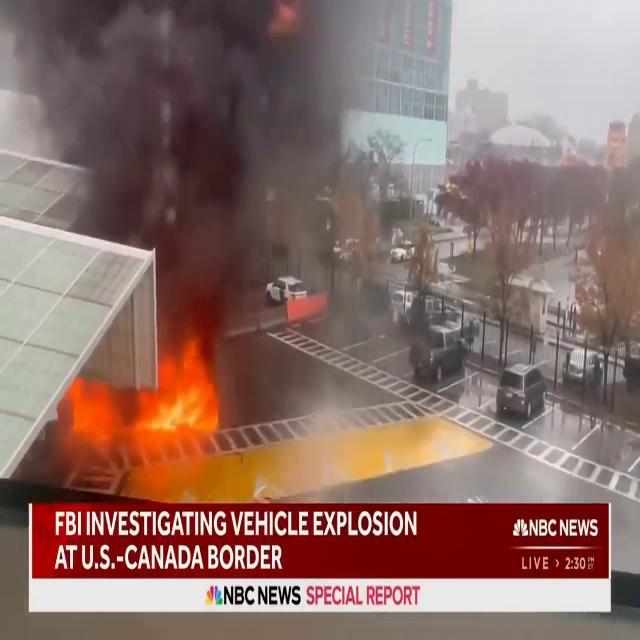Fire: (61, 336, 225, 492)
Smoke: (4, 0, 420, 357)
